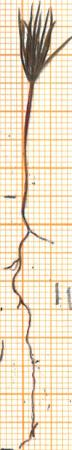flower: (0, 0, 72, 86)
root: (0, 198, 57, 450)
stem: (13, 86, 40, 199)
